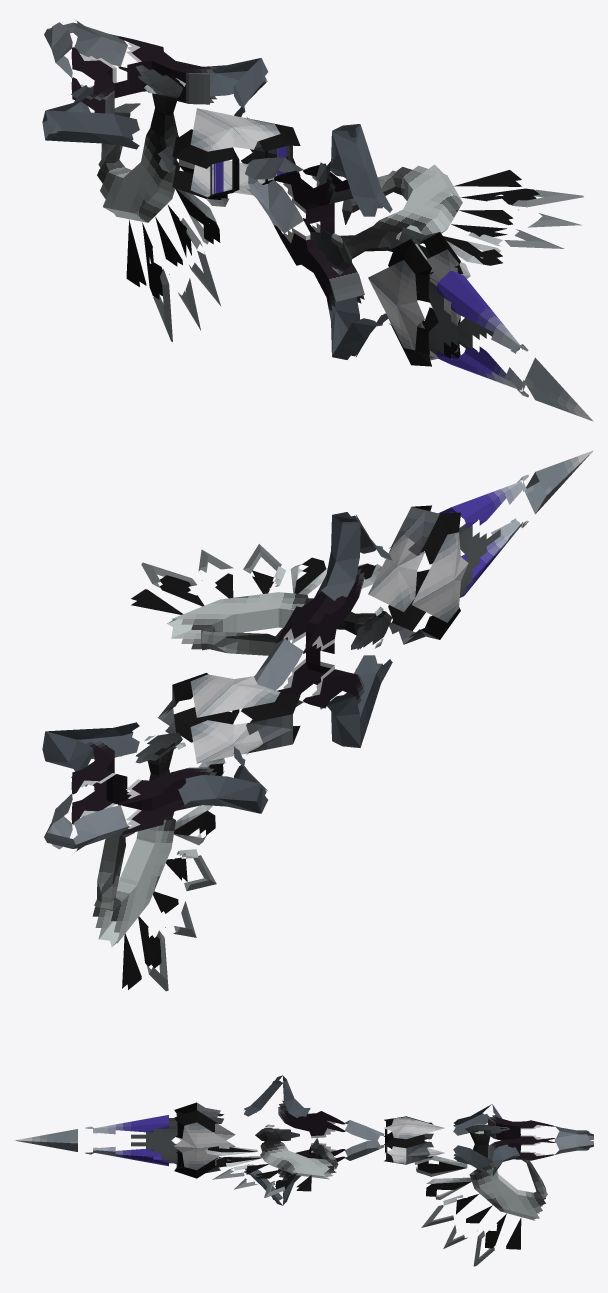
The model's file is precision_s.obj.
3 views of the same model, one above another, from view 1: azimuth 30°, elevation 25°; view 2: azimuth 150°, elevation 25°; view 3: azimuth 270°, elevation 25° (orthographic). The views are drawn at different scales.
Size of the model in its own units: 92.39 by 92.39 by 224.
